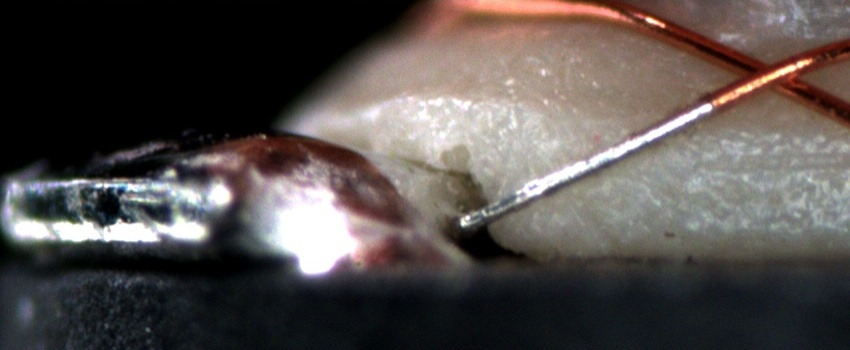CL: (720, 46, 820, 101)
DL: (690, 130, 850, 190)
TS: (460, 96, 714, 232)
